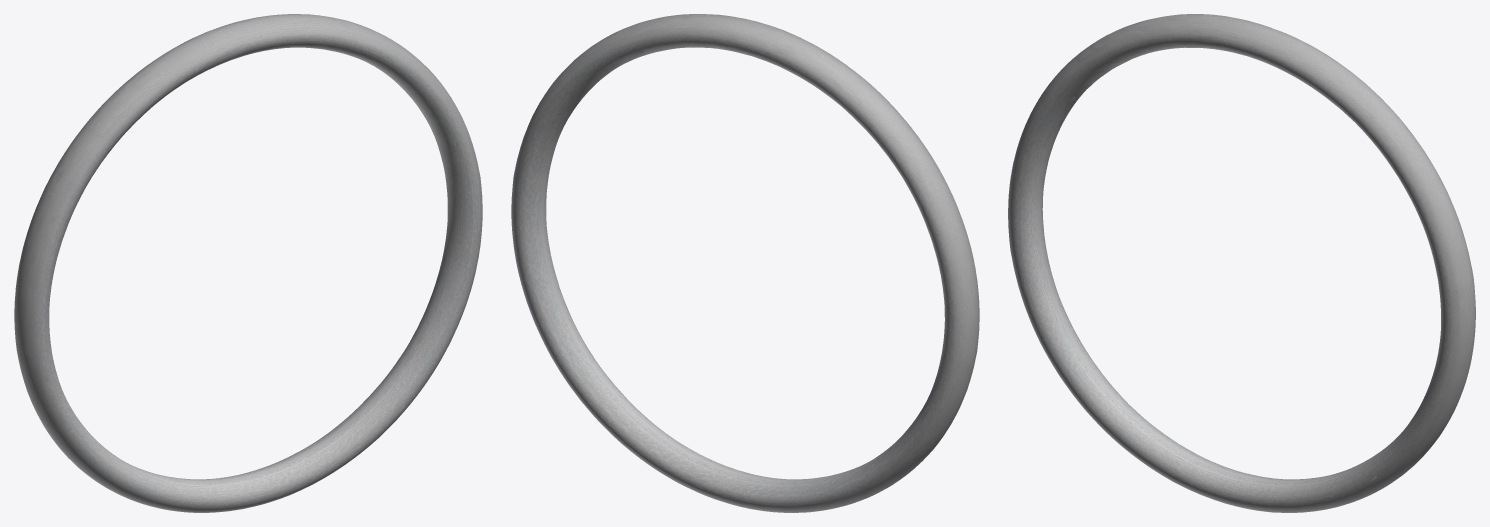
File: ring_silver.glb
3 views of the same model, side by side, from view 1: azimuth 30°, elevation 25°; view 2: azimuth 150°, elevation 25°; view 3: azimuth 330°, elevation 25° (orthographic).
Visible parts, largest first — view 1: Mesh_0; view 2: Mesh_0; view 3: Mesh_0.
Boxes of the visible parts, bbox=[...] form: Mesh_0: bbox=[14, 14, 482, 512]; Mesh_0: bbox=[511, 14, 979, 512]; Mesh_0: bbox=[1008, 14, 1475, 512].
Bounding box in the file's own units: 2.13 × 2.13 × 0.1716.
Materials: 1 (1 with a texture image).
